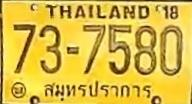0: (159, 24, 183, 76)
3: (38, 24, 61, 73)
5: (108, 23, 132, 74)
7: (82, 23, 106, 73), (12, 22, 35, 72)
8: (134, 24, 156, 75)
SPK: (40, 79, 153, 100)
